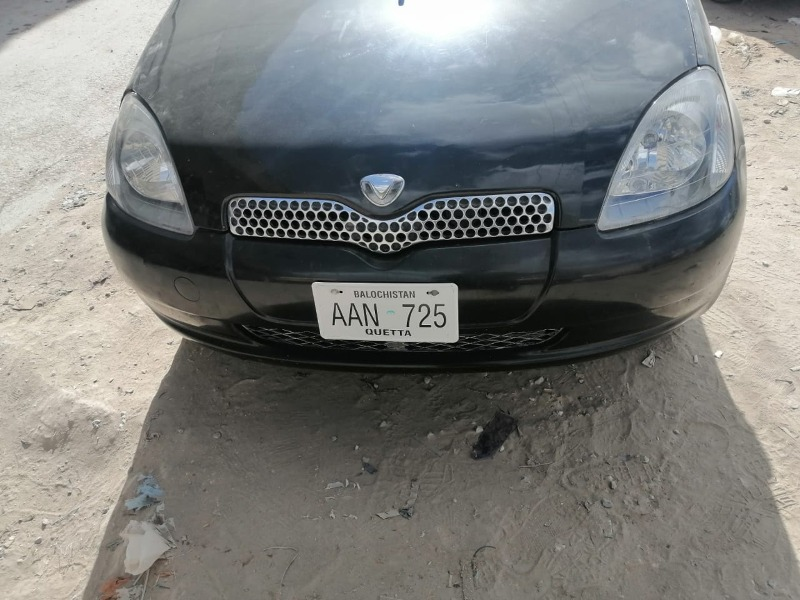License Plate: (307, 278, 462, 349)
